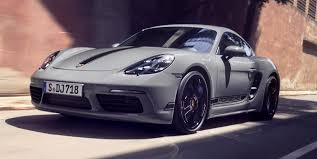car: (25, 23, 281, 133)
